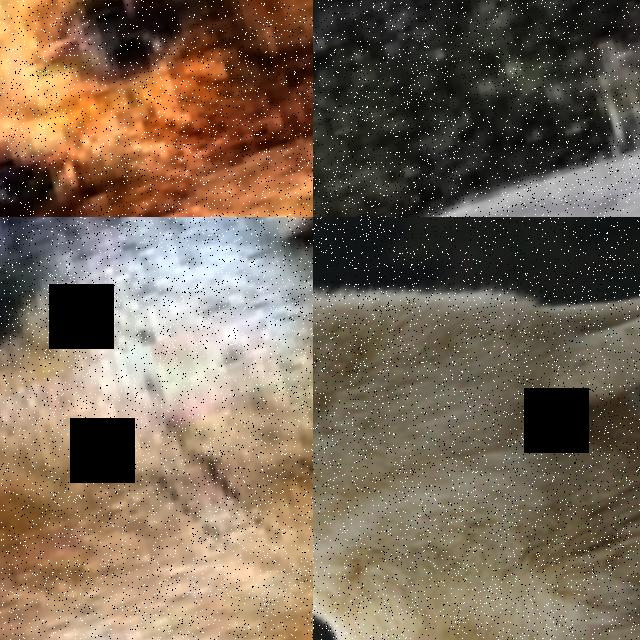dog: (0, 217, 313, 640), (0, 0, 313, 217), (0, 164, 313, 217)
wolf: (313, 217, 640, 640), (313, 91, 640, 217)
